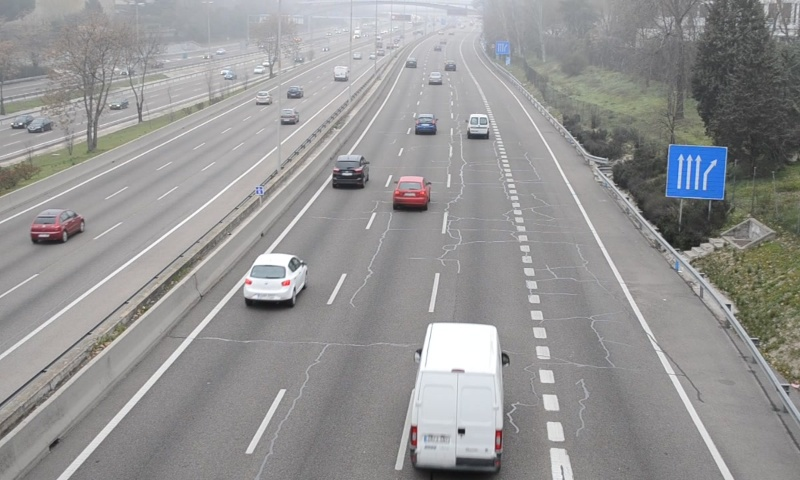car: (243, 254, 307, 300), (332, 154, 367, 186), (394, 175, 428, 207), (414, 113, 437, 134)
van: (410, 322, 504, 469), (467, 112, 491, 140)
